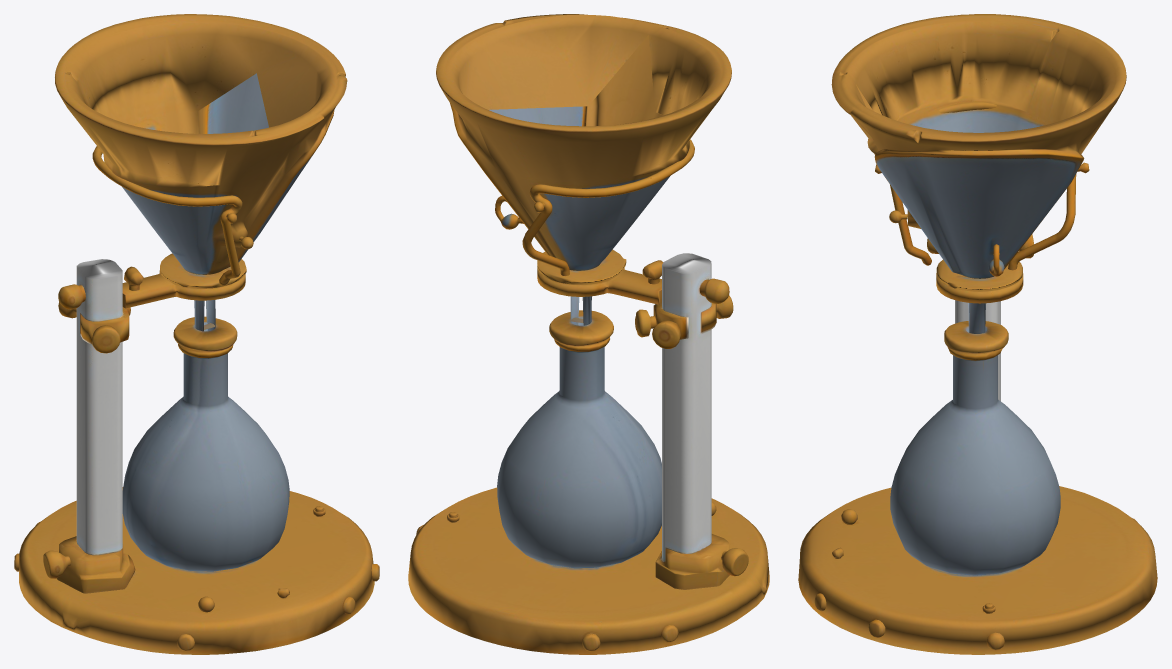
The model's file is filter-press.glb.
3 views of the same model, side by side, from view 1: azimuth 30°, elevation 25°; view 2: azimuth 150°, elevation 25°; view 3: azimuth 270°, elevation 25° (orthographic).
Parts seen in each view (by area): view 1: tripo_node_eb0e0f8f-a703-45f7-9bf6-267e20b0de12; view 2: tripo_node_eb0e0f8f-a703-45f7-9bf6-267e20b0de12; view 3: tripo_node_eb0e0f8f-a703-45f7-9bf6-267e20b0de12.
Boxes of the visible parts, x1,y1,x2,y2 form: tripo_node_eb0e0f8f-a703-45f7-9bf6-267e20b0de12: [14, 14, 379, 654]; tripo_node_eb0e0f8f-a703-45f7-9bf6-267e20b0de12: [408, 14, 769, 654]; tripo_node_eb0e0f8f-a703-45f7-9bf6-267e20b0de12: [798, 14, 1157, 654].
Size of the model in its own units: 0.6538 by 0.9995 by 0.6411.
Materials: 1 (1 with a texture image).
